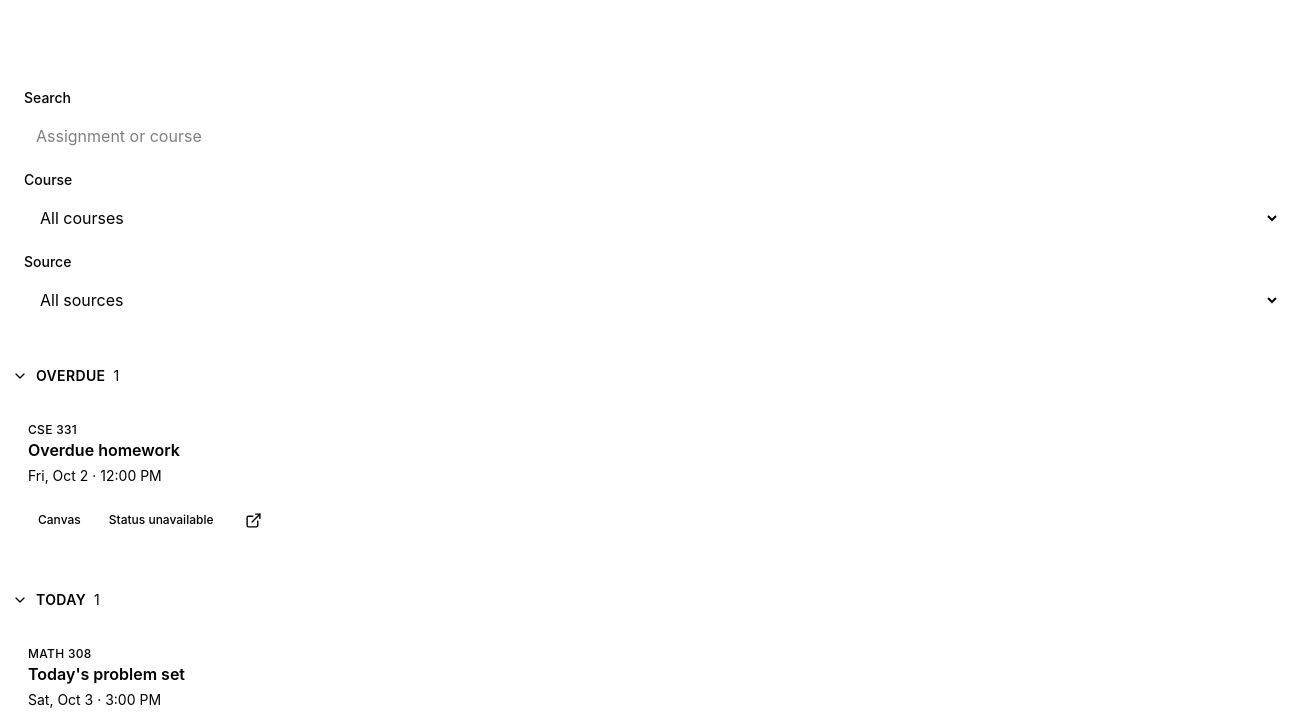
Test case: collapses sections independently and expands them with the keyboard
expect the heading "Overdue homework" is shown: met, box [28,440,180,460]
Click the button "Overdue 1": [71, 376] box [12,354,1292,398]
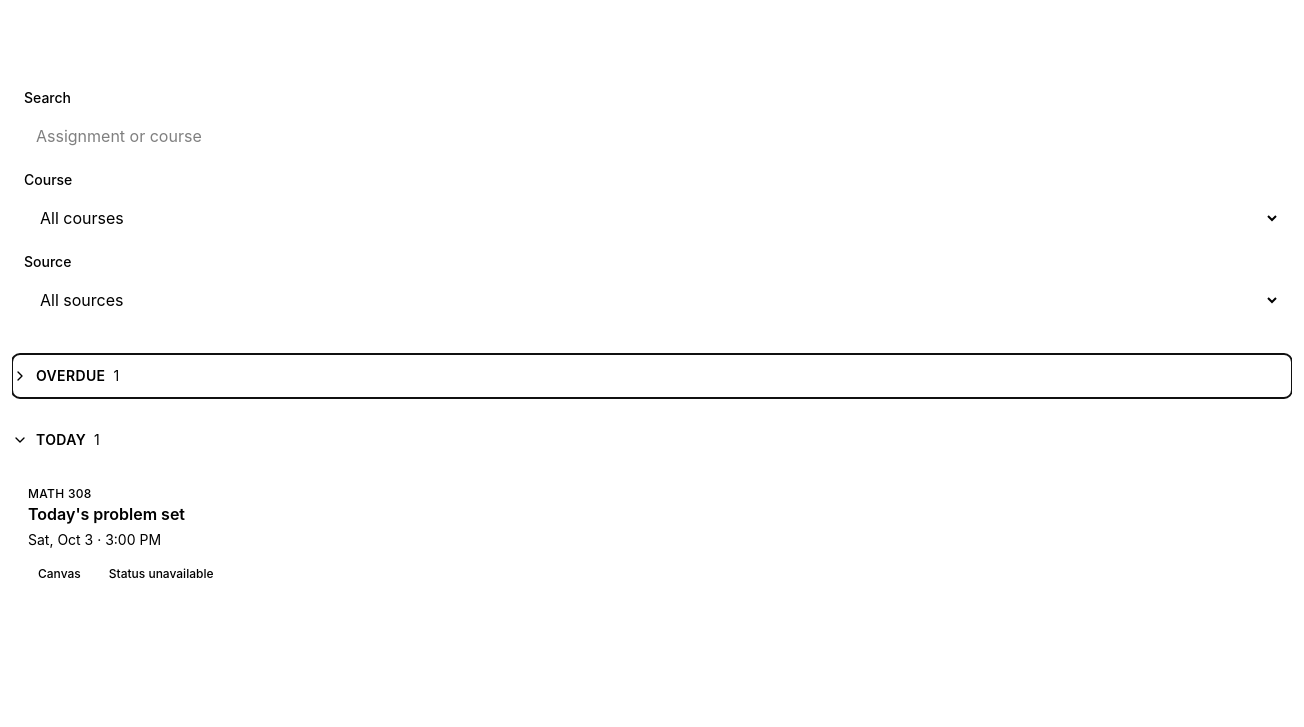
expect the heading "Today's problem set" is shown: met, box [28,504,185,524]
expect the button "Overdue 1" is collapsed: met, box [12,354,1292,398]
expect the button "Overdue homework" is gone: met
Press Enter
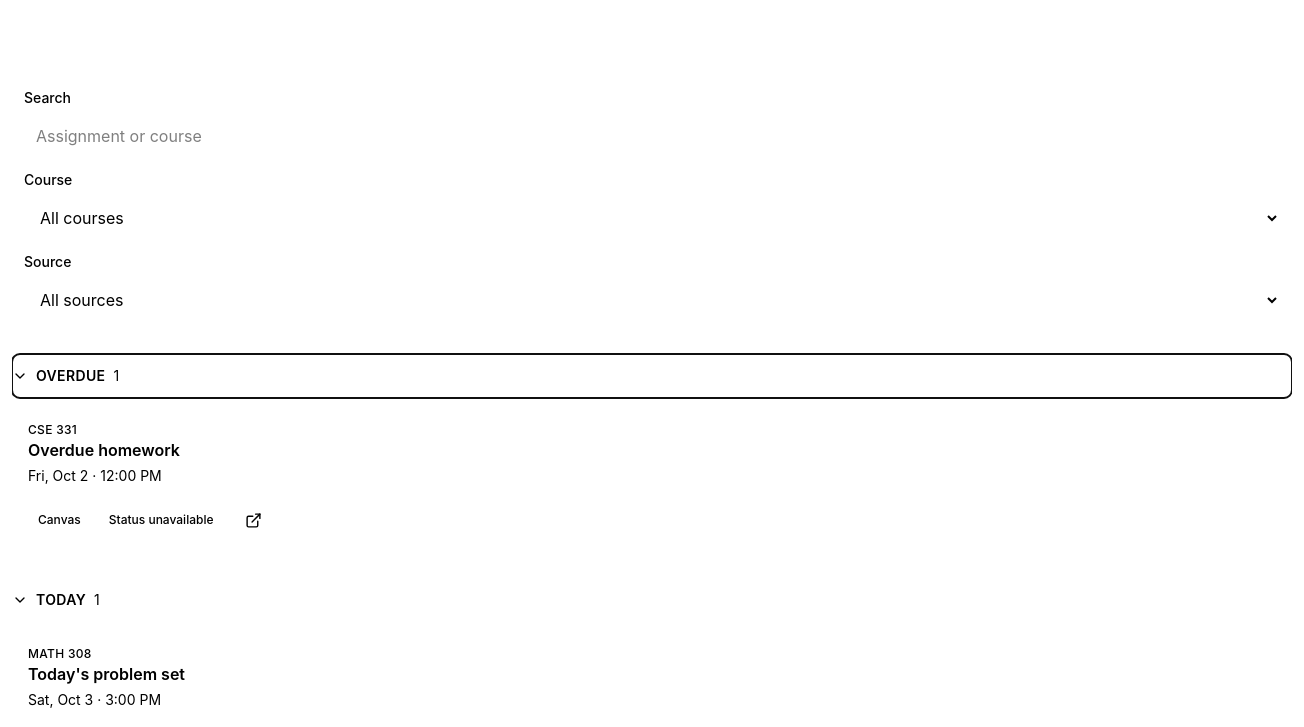
expect the heading "Overdue homework" is shown: met, box [28,440,180,460]
Type keys " "
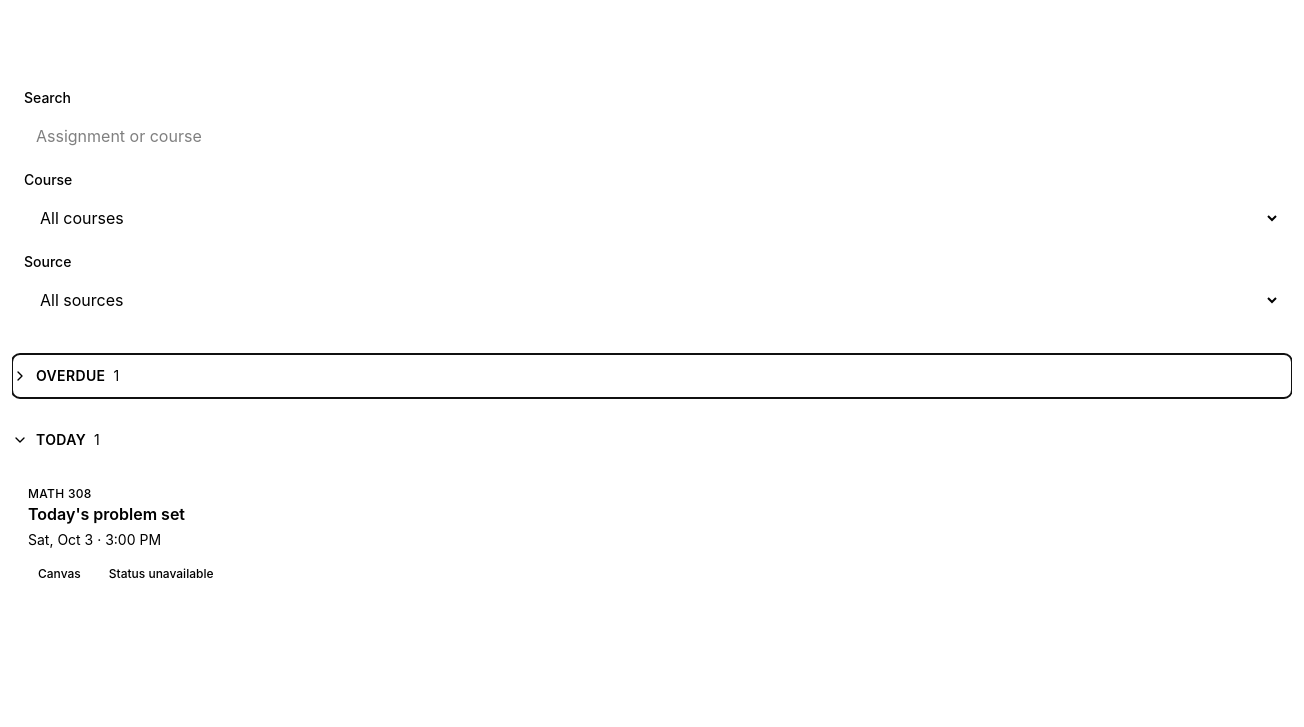
expect the button "Overdue homework" is gone: met
